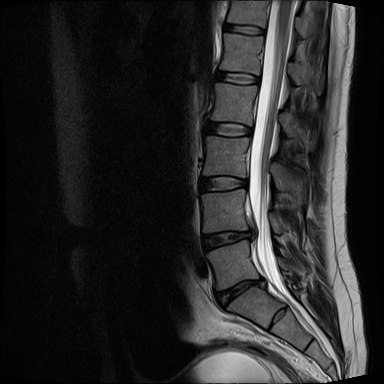Lumbar Disc Bulge (LDB): (198, 220, 261, 257), (213, 274, 271, 313)
Normal IVD: (195, 169, 252, 198), (197, 115, 256, 140), (207, 64, 261, 89), (216, 21, 268, 38)
Spinal Stenosis (SS): (241, 224, 260, 243), (252, 273, 269, 293)
Spondylolisthesis: (203, 258, 273, 322)
